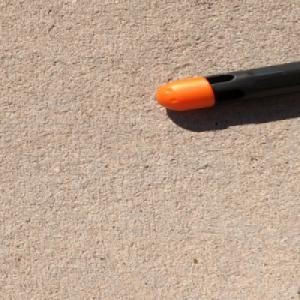PlasticPart: (153, 60, 300, 112)
